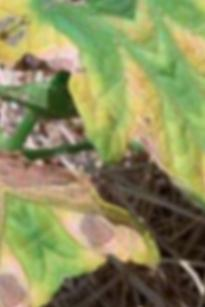Tomato Early blight leaf: (6, 0, 205, 278), (0, 81, 165, 307)
